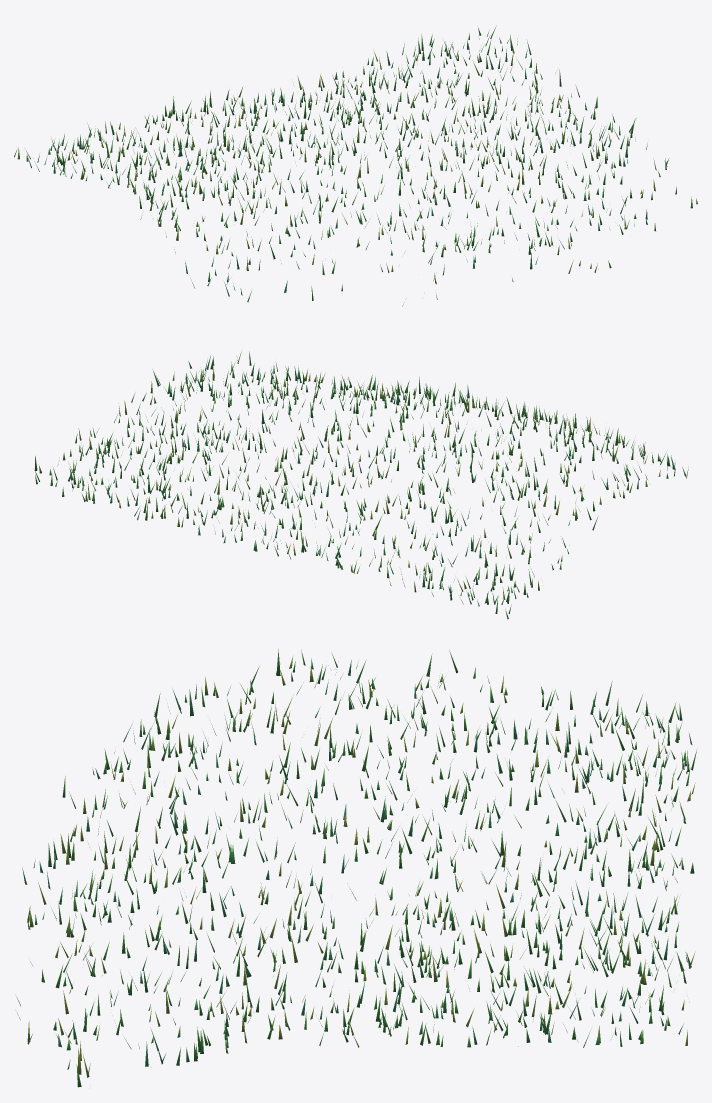
The picture shows the model from 3 angles, top to bottom: view 1: azimuth 30°, elevation 25°; view 2: azimuth 150°, elevation 25°; view 3: azimuth 270°, elevation 25°; orthographic projection. The views are drawn at different scales.
Visible parts, largest first — view 1: gc_38; view 2: gc_38; view 3: gc_38.
Boxes of the visible parts, x1,y1,x2,y2 form: gc_38: [14, 25, 697, 306]; gc_38: [34, 351, 688, 619]; gc_38: [16, 649, 696, 1087].
Bounding box in the file's own units: 10.68 × 1.88 × 8.65.
Materials: 1 (1 with a texture image).
